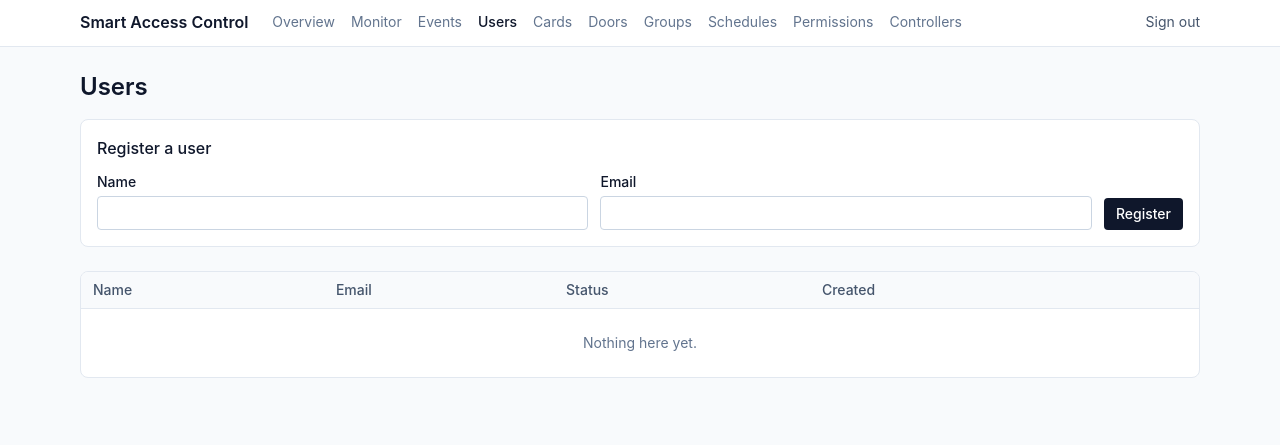
Test: users page › shows the server validation message
In the field labelled "Name": (343, 213) [97,196,588,230], type "Bob"
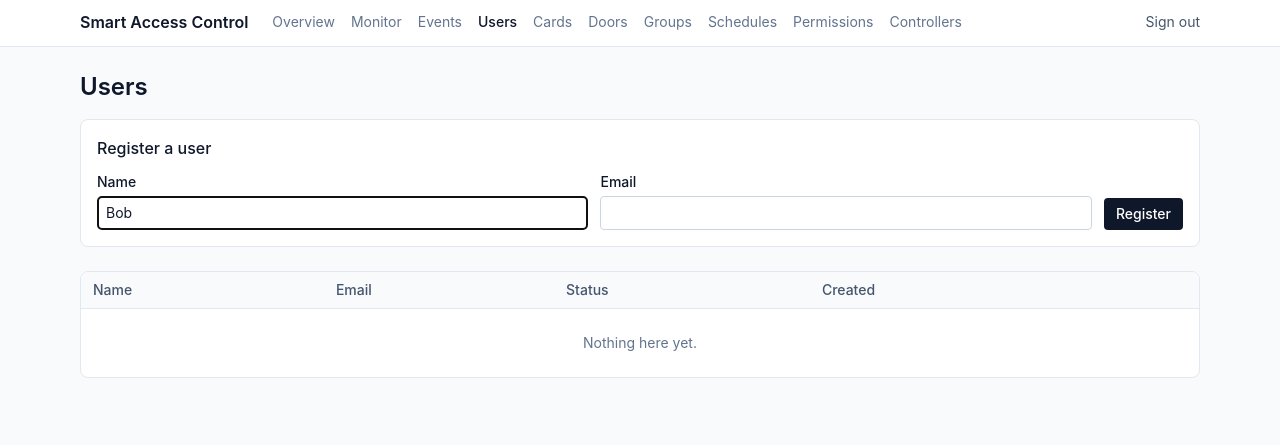
In the field labelled "Email": (846, 213) [600,196,1092,230], type "bob@example"
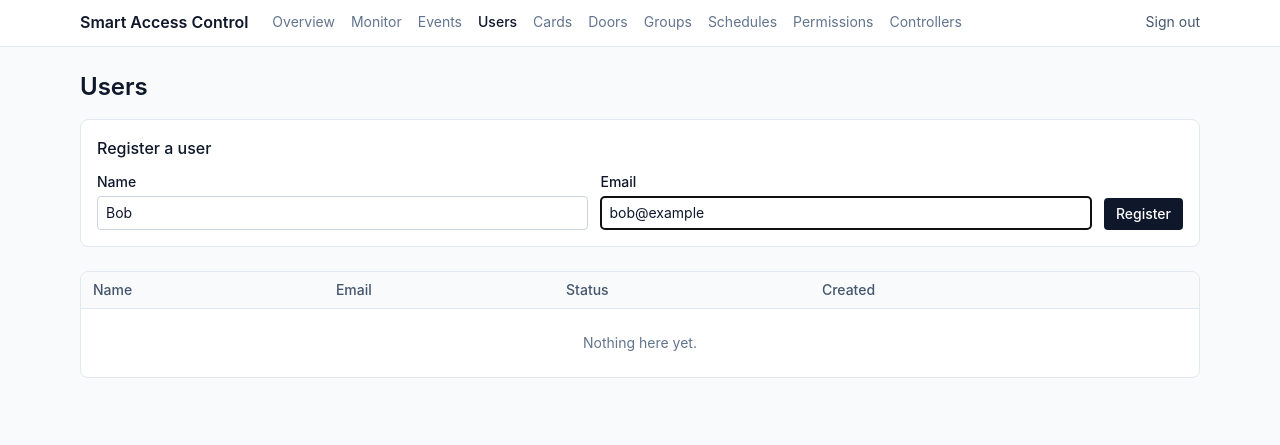
Click the button "Register": (1143, 214) [1104,198,1183,230]
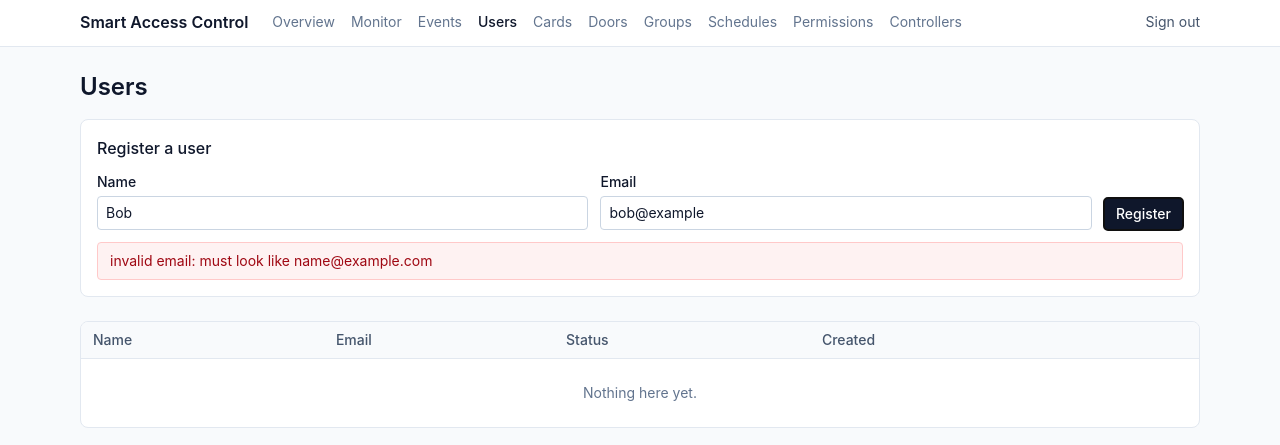
Result: the message reads "invalid email: must look like name@example.com" at [110,252,432,269]
